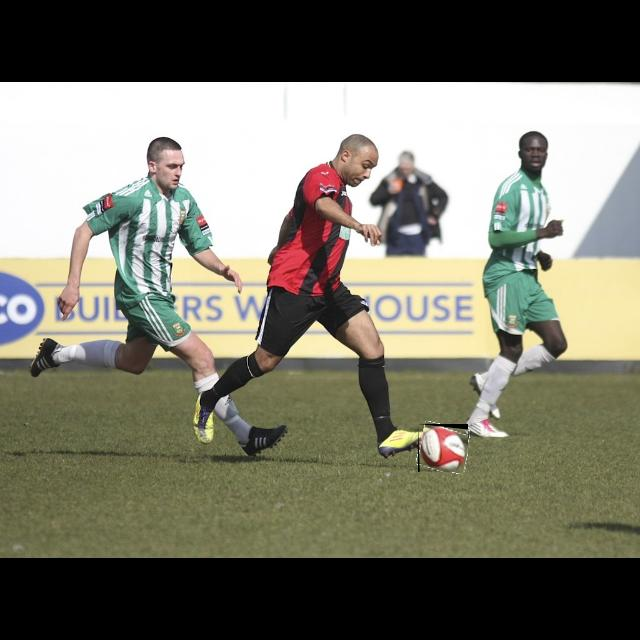Football: (418, 424, 468, 472)
